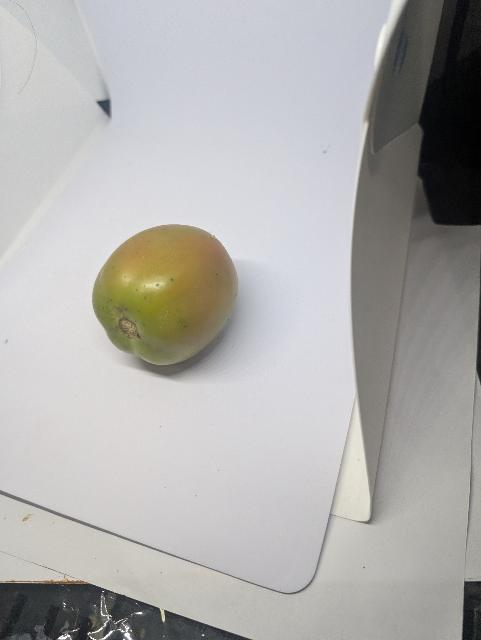breaker: (87, 217, 251, 374)
